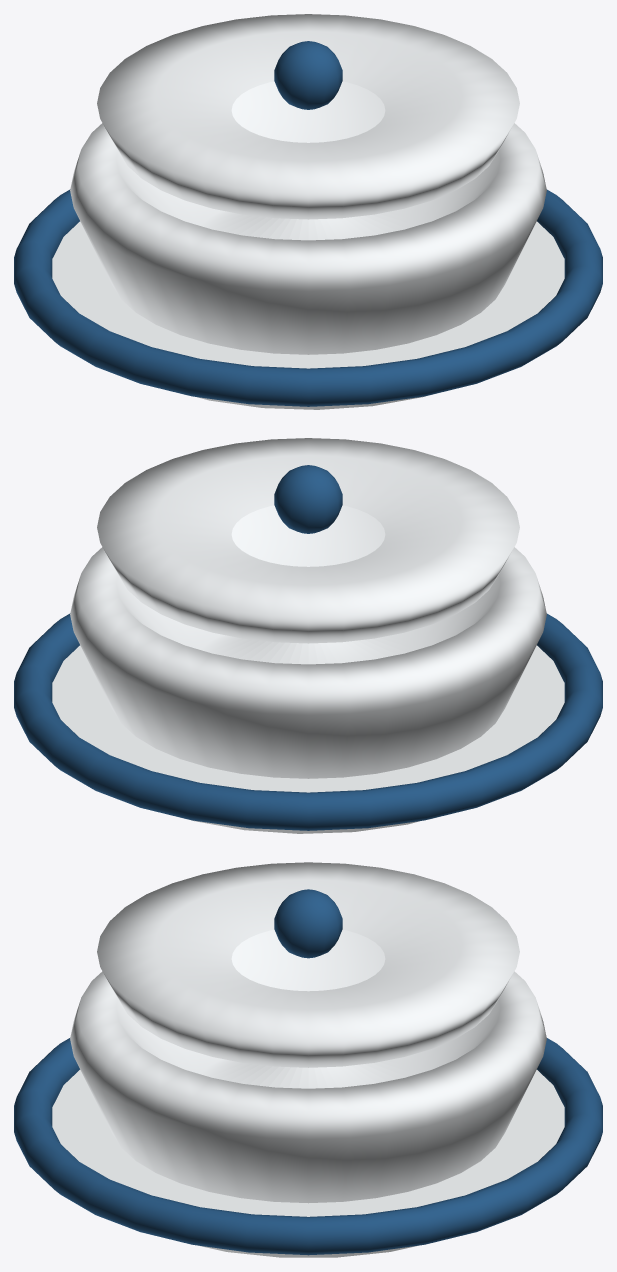
Rendered from wok_prop_gaiwan.glb.
3 views of the same model, one above another, from view 1: azimuth 30°, elevation 25°; view 2: azimuth 150°, elevation 25°; view 3: azimuth 270°, elevation 25° (orthographic).
Bounding box in the file's own units: 0.154 × 0.077 × 0.1532.
